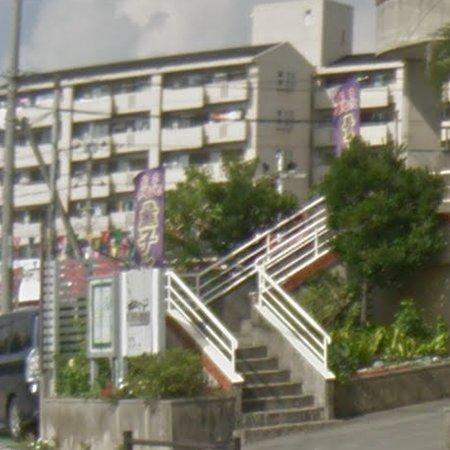stairs: (236, 335, 327, 441)
